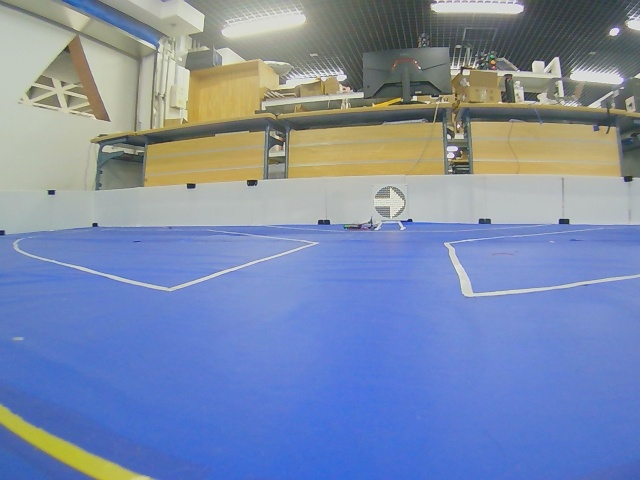right_yellow: (373, 185, 406, 219)
